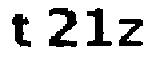1: (84, 5, 112, 49)
2: (44, 6, 78, 49)
t: (9, 12, 34, 50)
z: (116, 16, 145, 50)
